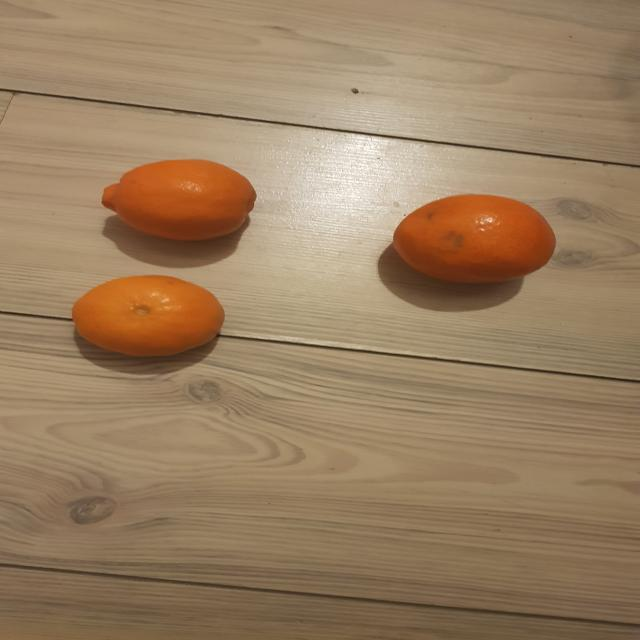Orange: (392, 194, 557, 287), (100, 160, 256, 245), (72, 277, 225, 361)
